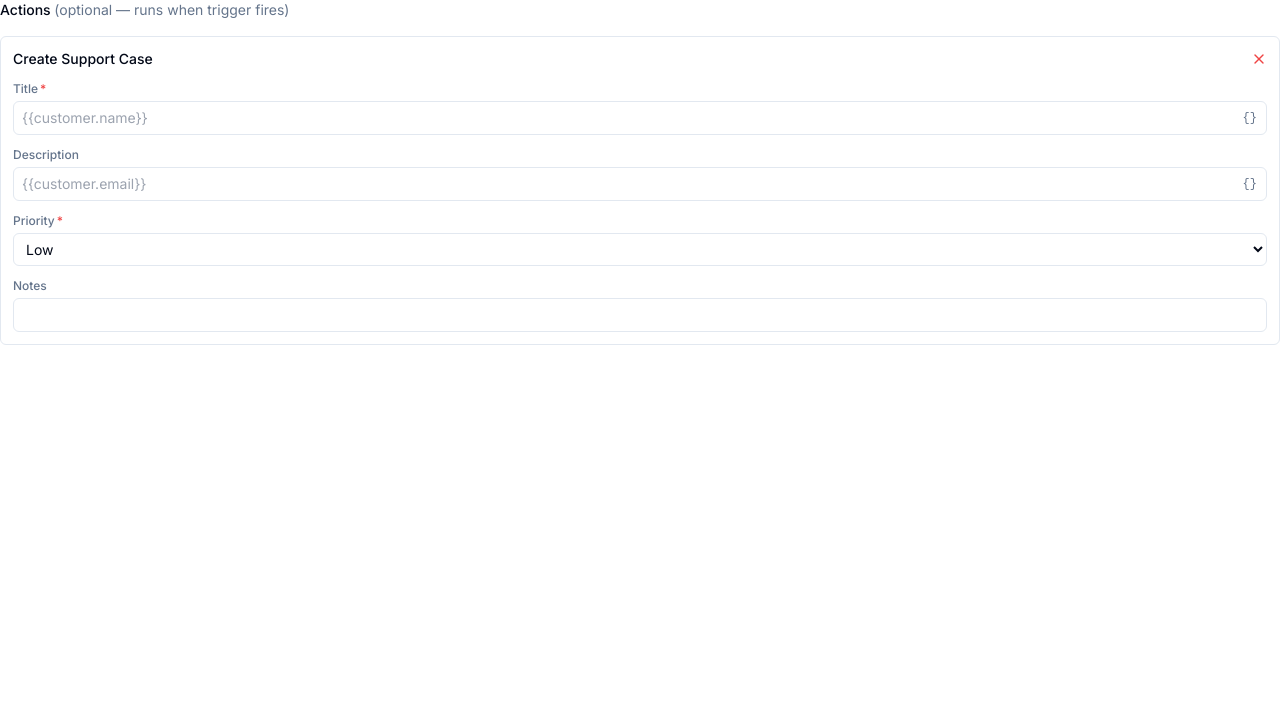
it: ActionsStep › passes objectKey derived from eventType to TemplateStringInput
// Open the picker on the title field
Click the button named "insert variable" at (1250, 118), box [1237,108,1263,128]
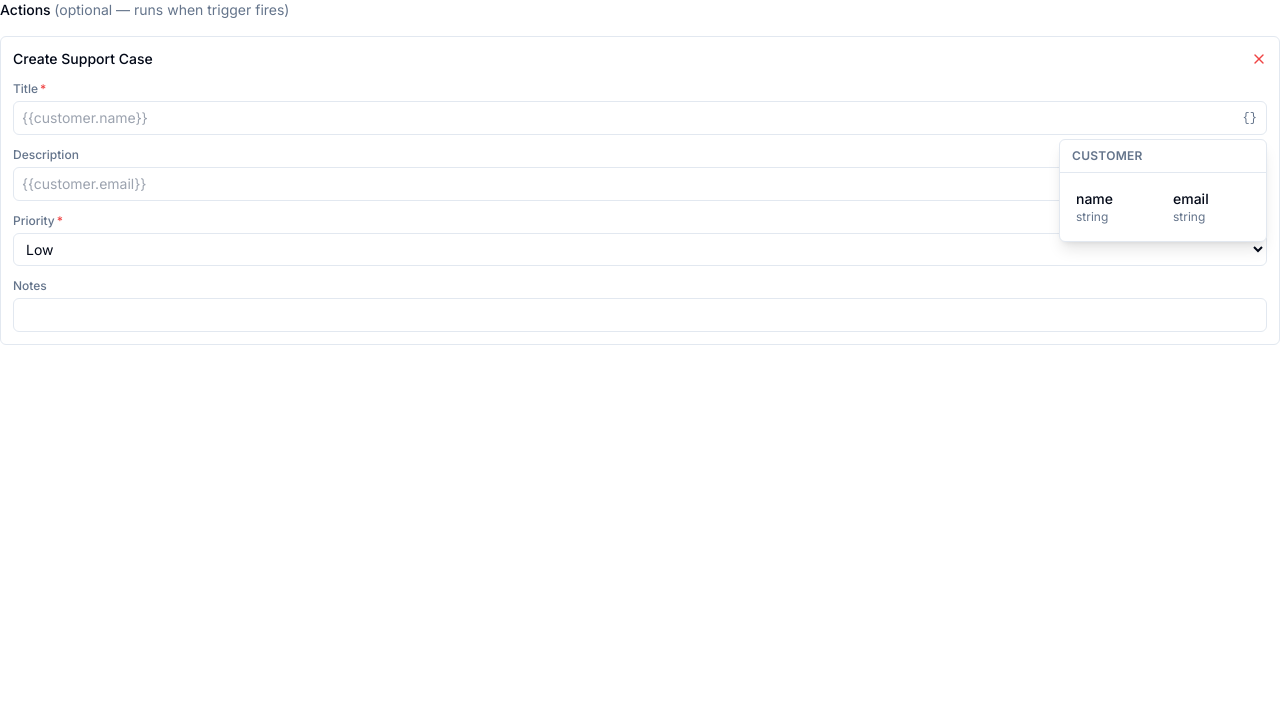
Check: the text "customer" is shown, box [1060,140,1266,173]
Check: the button "name string" is shown, box [1068,181,1161,233]
